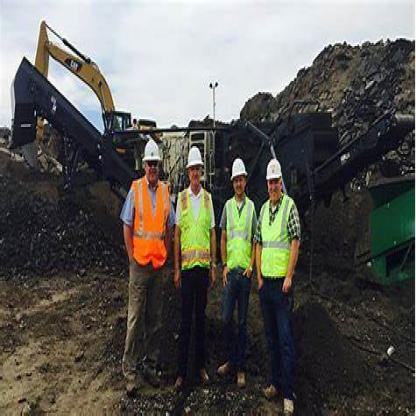person: (256, 143, 312, 414), (117, 123, 170, 388), (171, 128, 214, 388), (216, 141, 258, 397)
